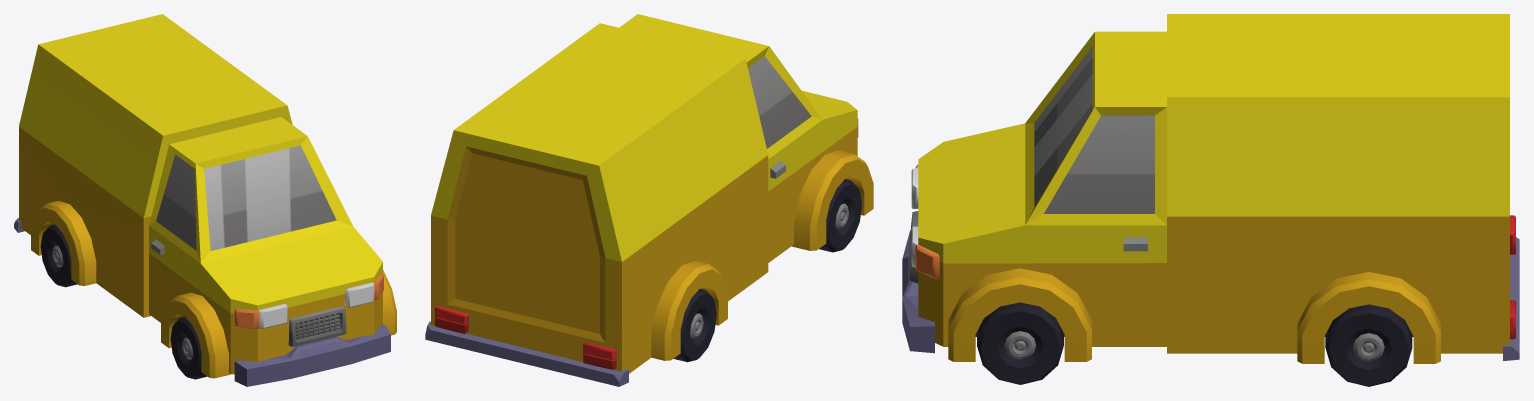
File: Van_6.glb
3 renders of one model, left to right at view 1: azimuth 30°, elevation 25°; view 2: azimuth 150°, elevation 25°; view 3: azimuth 270°, elevation 25°, orthographic. The views are drawn at different scales.
Visible parts, largest first — view 1: Van_6, wheel_FR, wheel_BR; view 2: Van_6, wheel_BR, wheel_FR; view 3: Van_6, wheel_BL, wheel_FL.
Part boxes in pixels (left/top/right/bottom): Van_6: left=14, top=14, right=396, bottom=386; wheel_FR: left=170, top=317, right=207, bottom=379; wheel_BR: left=40, top=224, right=77, bottom=287; Van_6: left=425, top=14, right=873, bottom=386; wheel_BR: left=673, top=289, right=716, bottom=362; wheel_FR: left=819, top=179, right=861, bottom=252; Van_6: left=902, top=14, right=1519, bottom=363; wheel_BL: left=1325, top=304, right=1412, bottom=386; wheel_FL: left=977, top=302, right=1063, bottom=384.
Size of the model in its own units: 1.23 by 1.19 by 2.48.
5 materials, 5 textured.
